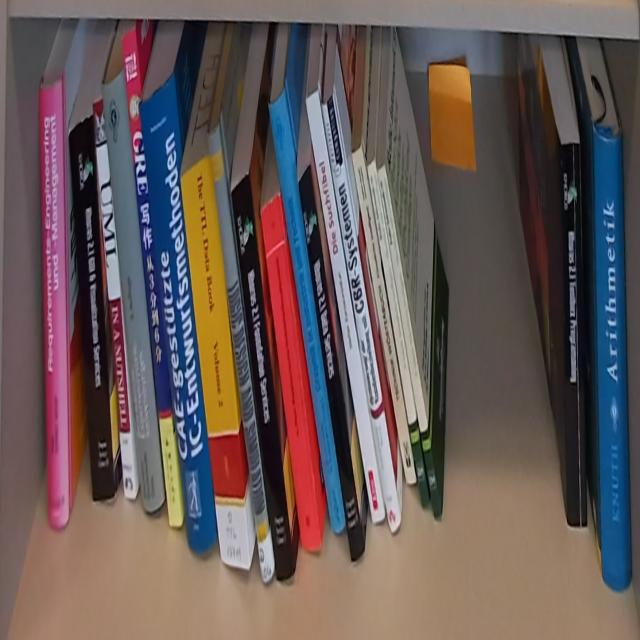Book Spine: (139, 72, 218, 555), (266, 92, 347, 538), (321, 96, 403, 536), (306, 89, 385, 525), (208, 124, 275, 587), (179, 152, 251, 571), (123, 30, 182, 527), (102, 66, 166, 518), (229, 173, 296, 583), (298, 165, 365, 564), (376, 165, 443, 523), (352, 145, 418, 487), (366, 161, 430, 508), (261, 192, 322, 551), (67, 114, 116, 500), (593, 128, 632, 595), (93, 101, 137, 502), (38, 77, 71, 533), (561, 140, 587, 532)
